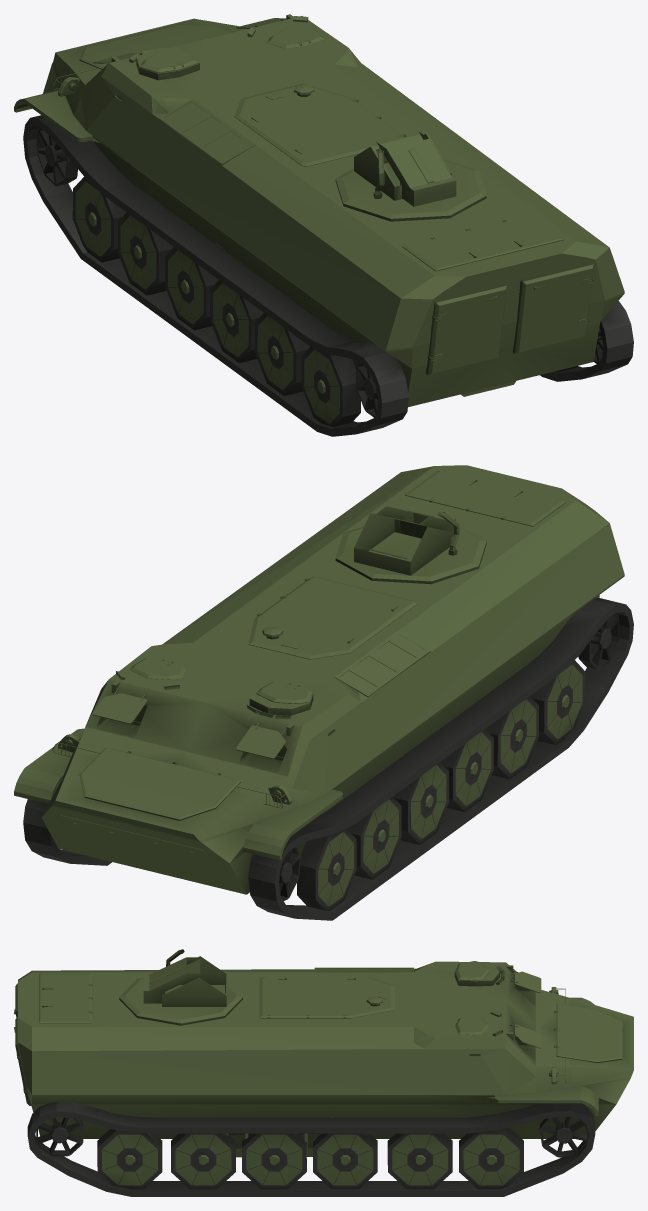
Rendered from strela10.glb.
3 renders of one model, top to bottom at view 1: azimuth 30°, elevation 25°; view 2: azimuth 150°, elevation 25°; view 3: azimuth 270°, elevation 25°, orthographic. The views are drawn at different scales.
Parts seen in each view (by area): view 1: body|Material#camo, body|Material.001#camo, body|Material.004, body|Material.005, body|Material.009#camo; view 2: body|Material#camo, body|Material.001#camo, body|Material.004, body|Material.005, body|Material.009#camo, body|Material.006#camo; view 3: body|Material#camo, body|Material.001#camo, body|Material.004, body|Material.005, cradle|Material.001#camo.
Part boxes in pixels (x1=…): body|Material#camo: x1=43, y1=16, x2=624, y2=406; body|Material.001#camo: x1=14, y1=16, x2=593, y2=423; body|Material.004: x1=23, y1=115, x2=633, y2=436; body|Material.005: x1=37, y1=128, x2=603, y2=426; body|Material.009#camo: x1=164, y1=102, x2=240, y2=153; body|Material#camo: x1=41, y1=465, x2=624, y2=894; body|Material.001#camo: x1=14, y1=470, x2=582, y2=906; body|Material.004: x1=23, y1=598, x2=633, y2=920; body|Material.005: x1=279, y1=613, x2=619, y2=910; body|Material.009#camo: x1=73, y1=641, x2=415, y2=852; body|Material.006#camo: x1=60, y1=500, x2=503, y2=803; body|Material#camo: x1=18, y1=961, x2=633, y2=1165; body|Material.001#camo: x1=15, y1=956, x2=622, y2=1185; body|Material.004: x1=27, y1=1102, x2=595, y2=1196; body|Material.005: x1=36, y1=1116, x2=588, y2=1189; cradle|Material.001#camo: x1=228, y1=1117, x2=333, y2=1157.
Bounding box in the file's own units: 2.53 × 2.44 × 6.47.
